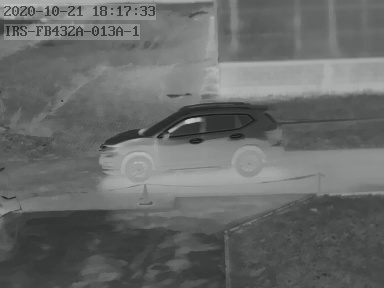vehicle: (97, 101, 289, 178)
